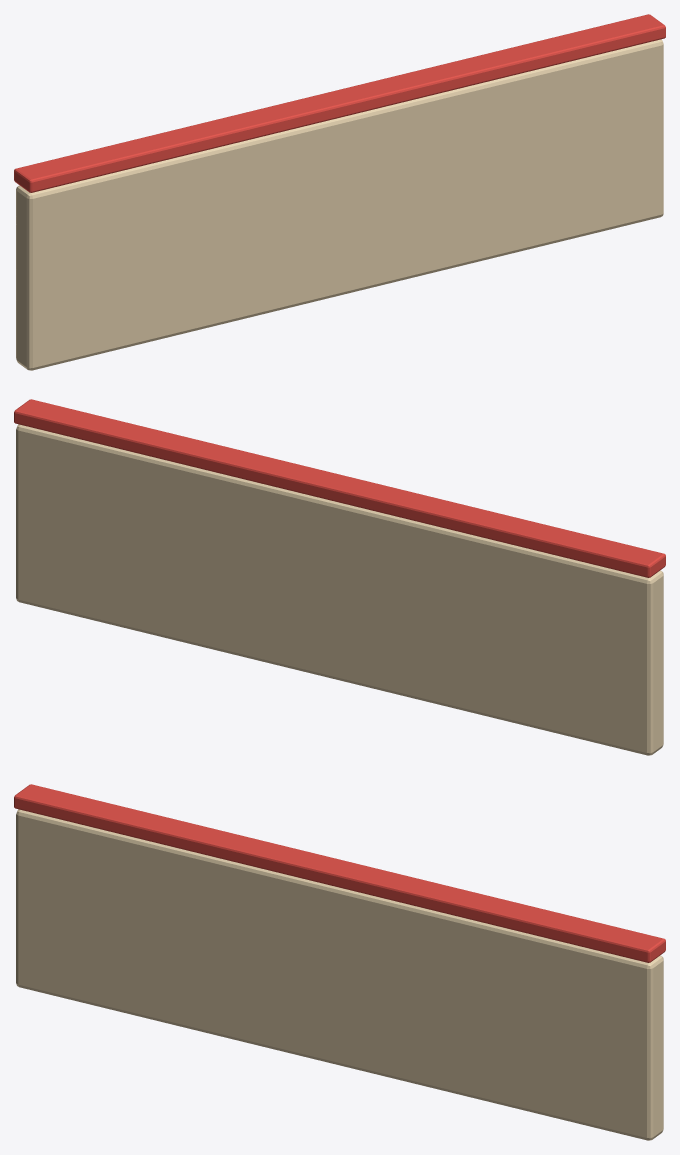
Rendered from BikePolo_Board.fbx.
3 views of the same model, one above another, from view 1: azimuth 30°, elevation 25°; view 2: azimuth 150°, elevation 25°; view 3: azimuth 330°, elevation 25° (orthographic).
Parts seen in each view (by area): view 1: Board; view 2: Board; view 3: Board.
Part boxes in pixels (x1=…): Board: x1=14, y1=14, x2=665, y2=370; Board: x1=14, y1=399, x2=665, y2=755; Board: x1=14, y1=784, x2=665, y2=1140.
Size of the model in its own units: 3 by 0.87 by 0.14.
